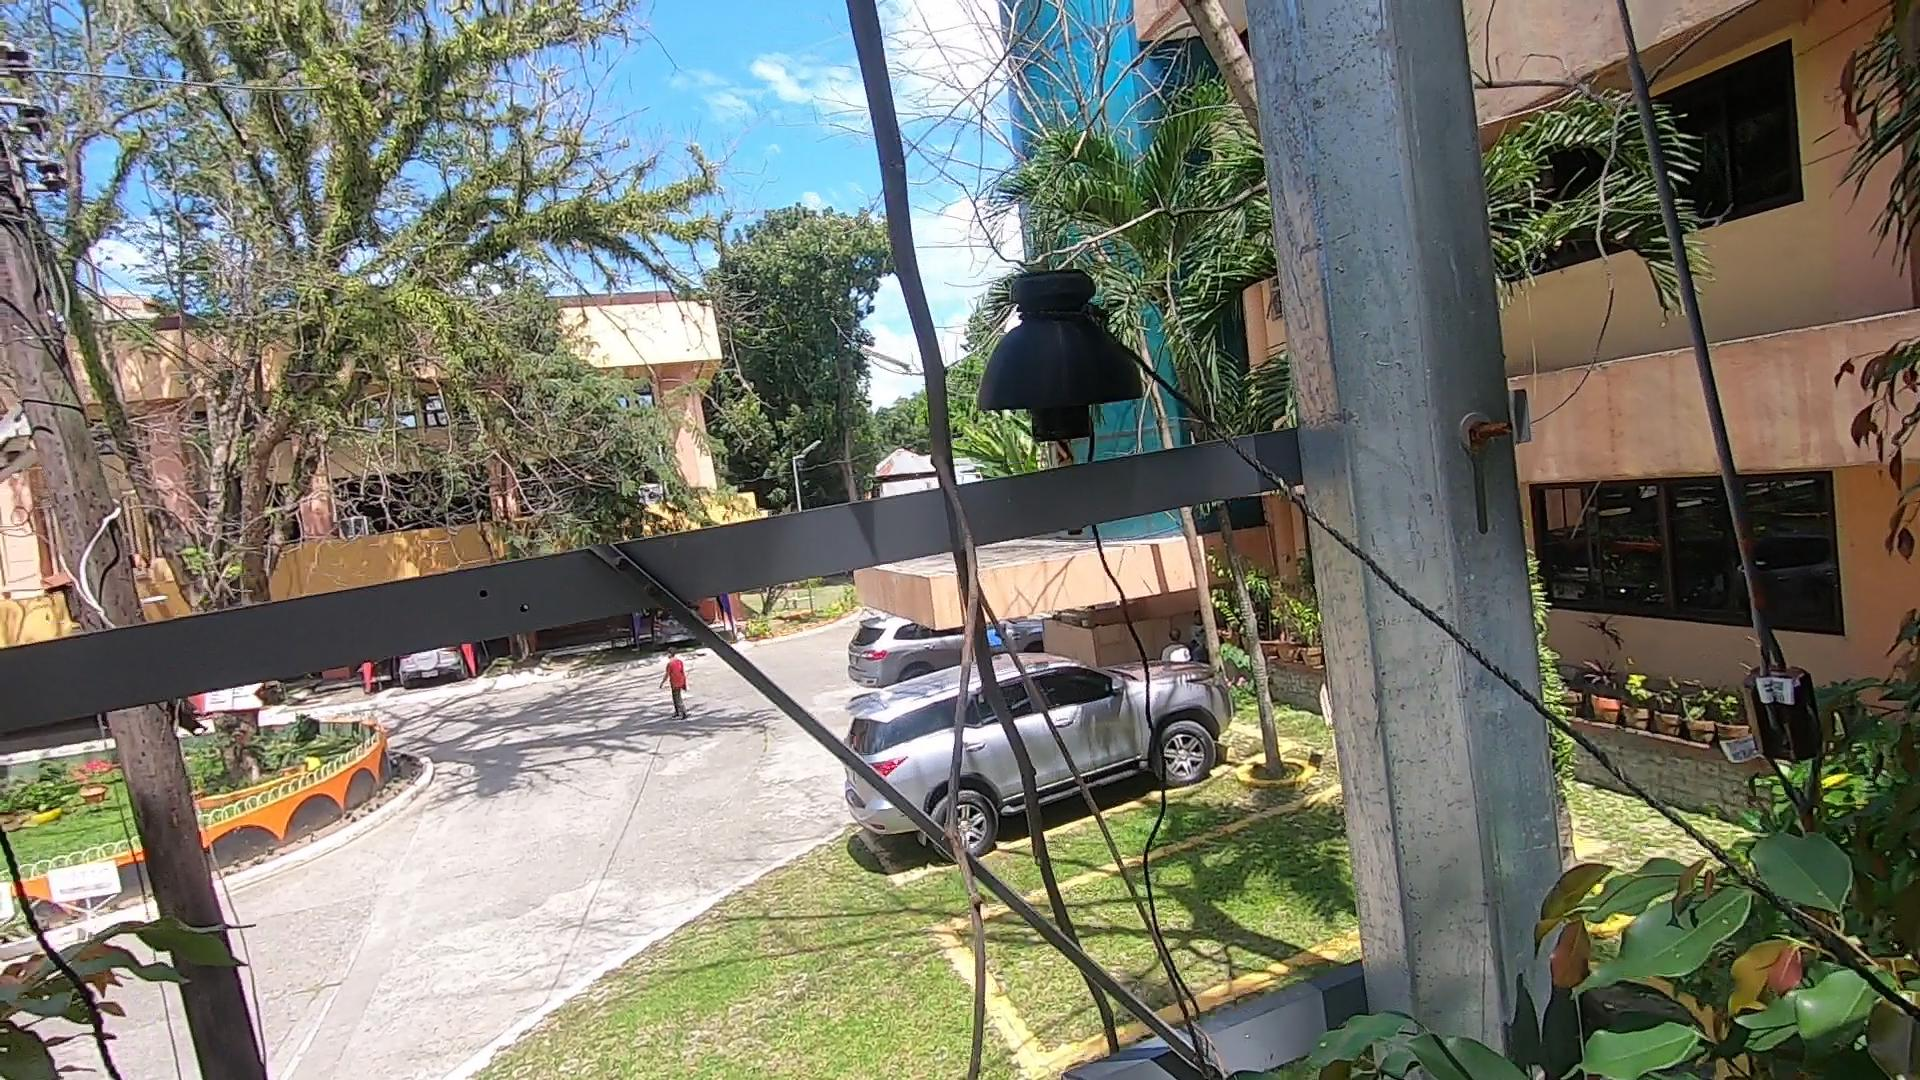tree branch: (819, 3, 1135, 1055)
